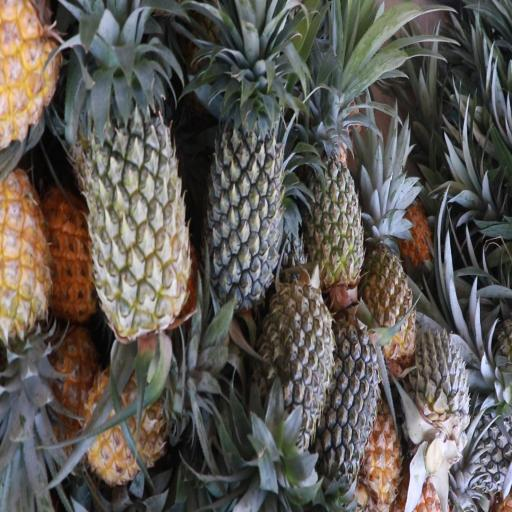------------------------------: (76, 42, 192, 333), (305, 130, 372, 296)
Pineapple - v8 v1: (80, 352, 212, 480), (0, 168, 53, 390), (366, 208, 424, 354)
